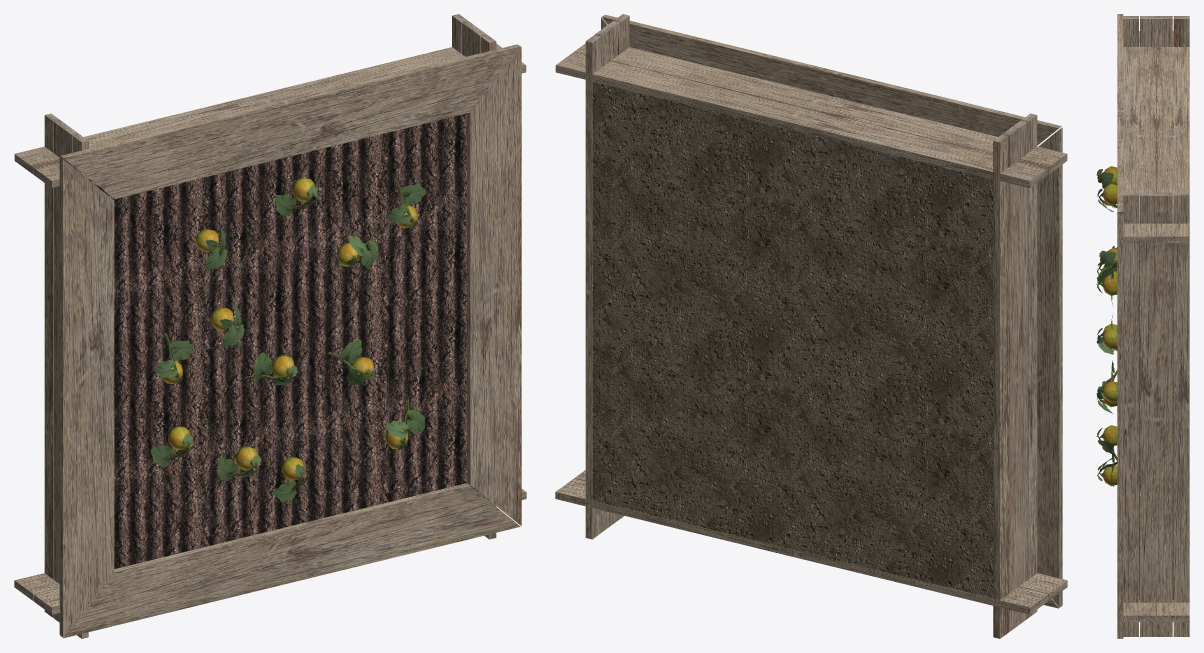
Rendered from pumpkin-young.dae.
3 renders of one model, left to right at view 1: azimuth 30°, elevation 25°; view 2: azimuth 150°, elevation 25°; view 3: azimuth 270°, elevation 25°, orthographic. The views are drawn at different scales.
Parts seen in each view (by area): view 1: dirt, top_4_Cube_023, top_3_Cube_021, top_2_Cube_022, top_1_Cube_016, plank_06_Cube_009, plank_08_Cube_011, plank_09_Cube_013, pumpkinYoung_008, pumpkinYoung_003, pumpkinYoung_009, pumpkinYoung_010 (+9 smaller); view 2: dirt, plank_06_Cube_009, top_4_Cube_023, top_3_Cube_021, plank_09_Cube_013, plank_07_Cube_010, plank_08_Cube_011, plank_01_Cube_02, plank_03_Cube_004, plank_10_Cube_014, plank_04_Cube_006, plank_02_Cube_03; view 3: plank_04_Cube_006, plank_03_Cube_004, plank_05_Cube_007, plank_06_Cube_009, plank_07_Cube_010, top_2_Cube_022, top_3_Cube_021, dirt, plank_09_Cube_013, plank_01_Cube_02, plank_02_Cube_03, plank_08_Cube_011 (+10 smaller).
Boxes of the visible parts, x1=… form: dirt: x1=88, y1=113, x2=488, y2=568; top_4_Cube_023: x1=59, y1=157, x2=114, y2=636; top_3_Cube_021: x1=61, y1=44, x2=519, y2=198; top_2_Cube_022: x1=467, y1=45, x2=521, y2=525; top_1_Cube_016: x1=61, y1=483, x2=520, y2=638; plank_06_Cube_009: x1=14, y1=43, x2=501, y2=173; plank_08_Cube_011: x1=44, y1=113, x2=59, y2=617; plank_09_Cube_013: x1=54, y1=120, x2=78, y2=622; pumpkinYoung_008: x1=327, y1=339, x2=375, y2=385; pumpkinYoung_003: x1=244, y1=352, x2=297, y2=385; pumpkinYoung_009: x1=385, y1=399, x2=425, y2=449; pumpkinYoung_010: x1=388, y1=179, x2=425, y2=229; dirt: x1=592, y1=81, x2=993, y2=598; plank_06_Cube_009: x1=555, y1=52, x2=1048, y2=187; top_4_Cube_023: x1=1037, y1=127, x2=1062, y2=607; top_3_Cube_021: x1=602, y1=14, x2=1061, y2=145; plank_09_Cube_013: x1=1003, y1=120, x2=1027, y2=631; plank_07_Cube_010: x1=574, y1=43, x2=1067, y2=174; plank_08_Cube_011: x1=993, y1=134, x2=1008, y2=638; plank_01_Cube_02: x1=555, y1=478, x2=1048, y2=614; plank_03_Cube_004: x1=585, y1=35, x2=601, y2=539; plank_10_Cube_014: x1=1021, y1=113, x2=1037, y2=617; plank_04_Cube_006: x1=595, y1=21, x2=620, y2=532; plank_02_Cube_03: x1=574, y1=470, x2=1067, y2=600; plank_04_Cube_006: x1=1140, y1=192, x2=1172, y2=636; plank_03_Cube_004: x1=1173, y1=192, x2=1189, y2=636; plank_05_Cube_007: x1=1123, y1=192, x2=1138, y2=636; plank_06_Cube_009: x1=1156, y1=31, x2=1189, y2=242; plank_07_Cube_010: x1=1123, y1=31, x2=1155, y2=242; top_2_Cube_022: x1=1117, y1=213, x2=1123, y2=638; top_3_Cube_021: x1=1117, y1=14, x2=1123, y2=213; dirt: x1=1139, y1=53, x2=1173, y2=599; plank_09_Cube_013: x1=1140, y1=16, x2=1172, y2=53; plank_01_Cube_02: x1=1157, y1=599, x2=1189, y2=621; plank_02_Cube_03: x1=1123, y1=599, x2=1155, y2=621; plank_08_Cube_011: x1=1173, y1=16, x2=1189, y2=46.
Bounding box in the file's own units: 3.68 × 3.68 × 0.7049.
4 materials, 4 textured.
